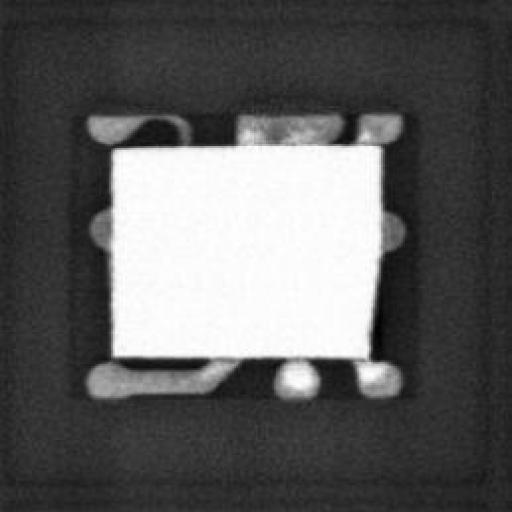DIE_BROKEN: (361, 252, 385, 362)
